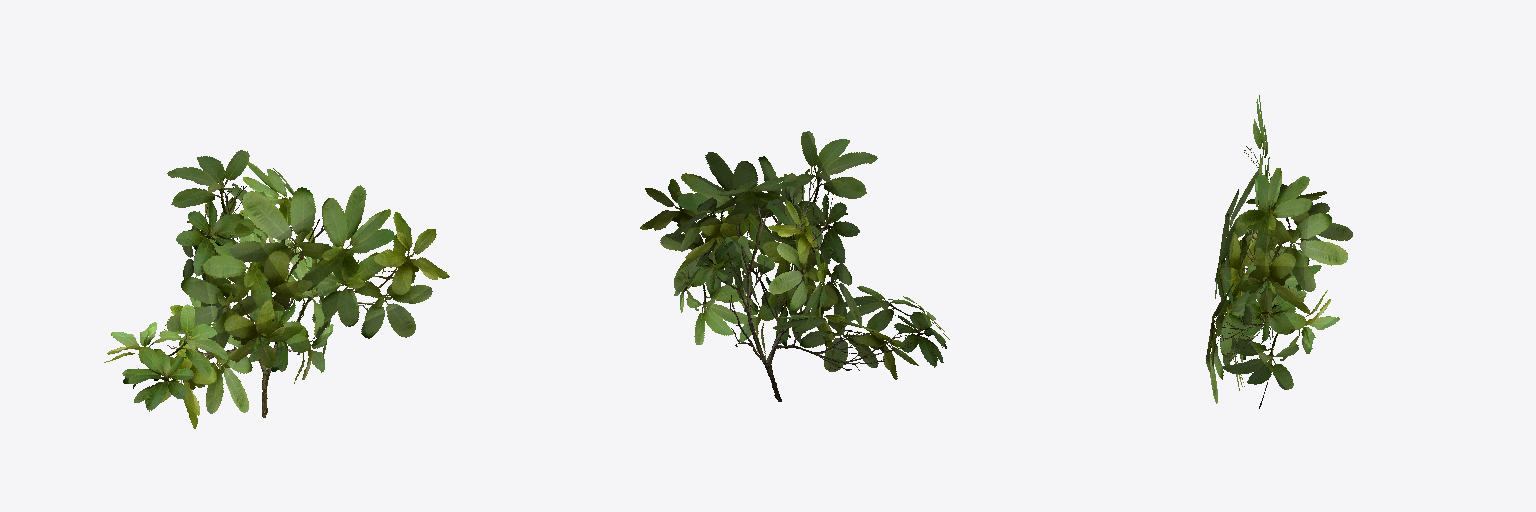
The picture shows the model from 3 angles: view 1: azimuth 30°, elevation 25°; view 2: azimuth 150°, elevation 25°; view 3: azimuth 270°, elevation 25°; orthographic projection.
Visible parts, largest first — view 1: bushes01_02; view 2: bushes01_02; view 3: bushes01_02.
Part boxes in pixels (left/top/right/bottom): bushes01_02: left=104, top=150, right=449, bottom=428; bushes01_02: left=640, top=131, right=949, bottom=401; bushes01_02: left=1206, top=95, right=1352, bottom=408.
Size of the model in its own units: 101 by 87.41 by 43.53.
Materials: 1 (1 with a texture image).